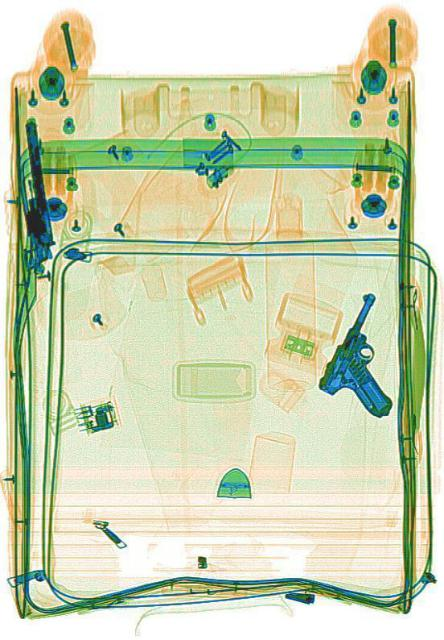Gun: (313, 286, 426, 440), (20, 112, 53, 248)
